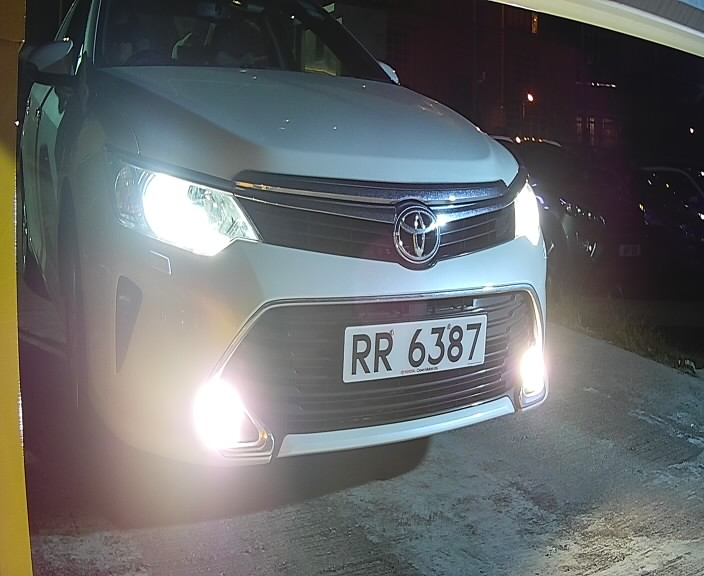Car: (30, 2, 568, 482)
License Plate: (334, 301, 498, 392)
